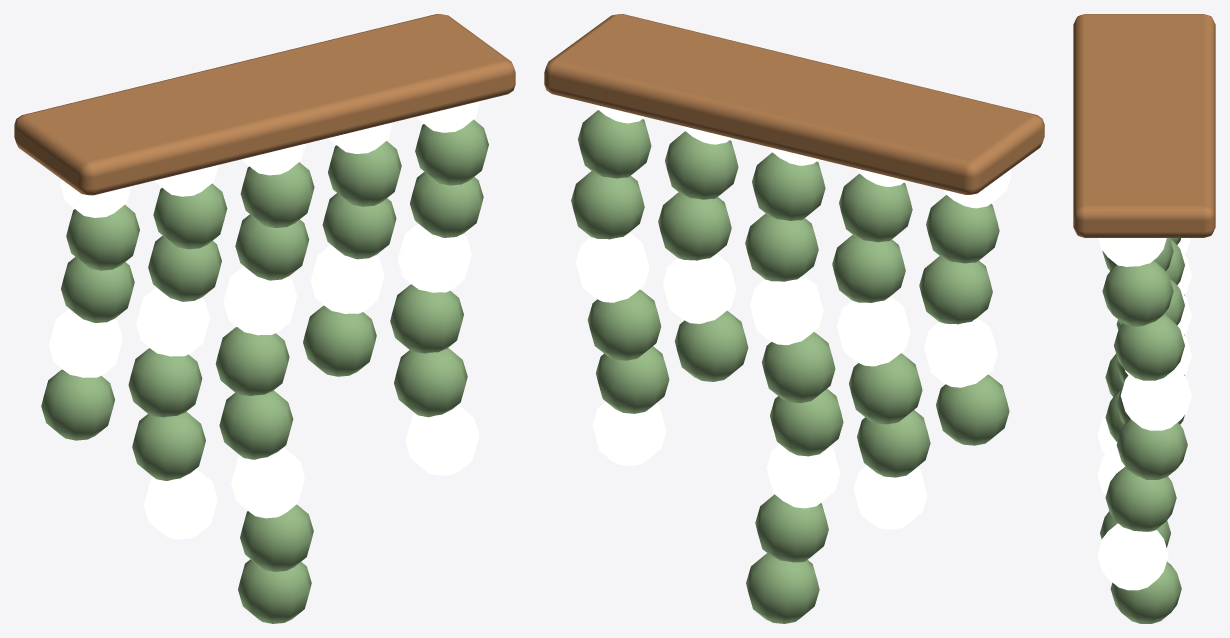
The model's file is glowing_moss_strands.glb.
3 renders of one model, left to right at view 1: azimuth 30°, elevation 25°; view 2: azimuth 150°, elevation 25°; view 3: azimuth 270°, elevation 25°, orthographic. The views are drawn at different scales.
Parts seen in each view (by area): view 1: glowing_moss_strands_mesh; view 2: glowing_moss_strands_mesh; view 3: glowing_moss_strands_mesh.
Part boxes in pixels (x1=…): glowing_moss_strands_mesh: x1=14, y1=14, x2=515, y2=623; glowing_moss_strands_mesh: x1=544, y1=14, x2=1044, y2=623; glowing_moss_strands_mesh: x1=1073, y1=14, x2=1215, y2=623.
Bounding box in the file's own units: 0.4 × 0.47 × 0.12.
